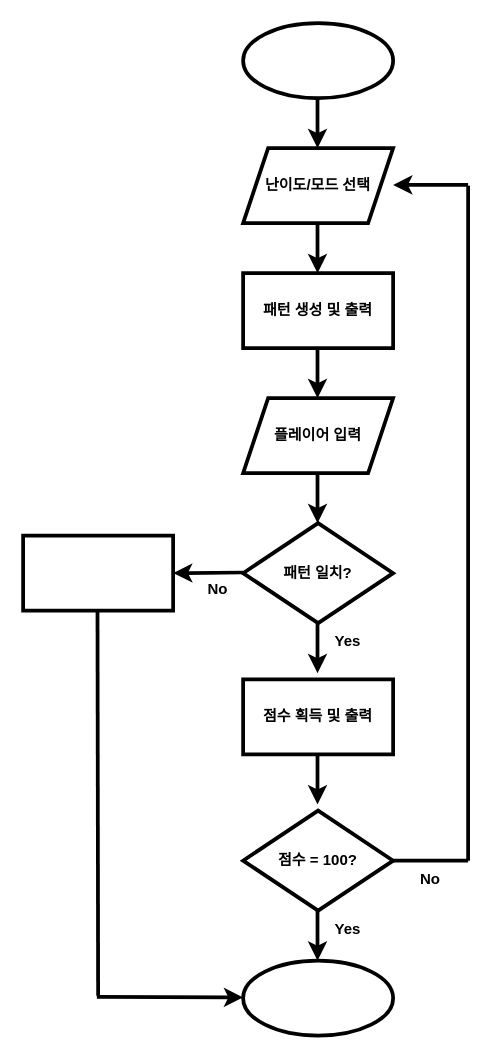
Image size: 501x1059. Some labels were removed from this diagram. The shapes that lost their labels are listed below. From the top down, each one's box as (x1, y1, x2, y2) in pixels, then its label:
(241, 21, 394, 99): 게임 시작
(21, 533, 174, 612): 점수 초기화
(241, 958, 394, 1037): 게임 종료
